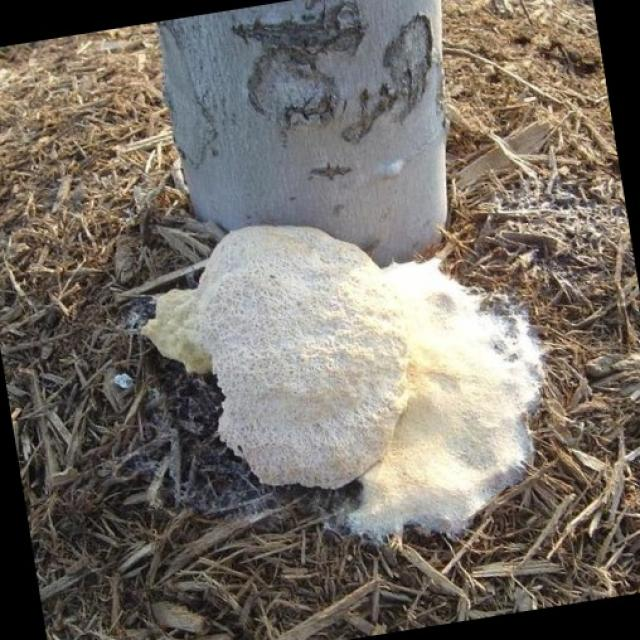Dog_vomit_slime_mold: (135, 200, 548, 540)
